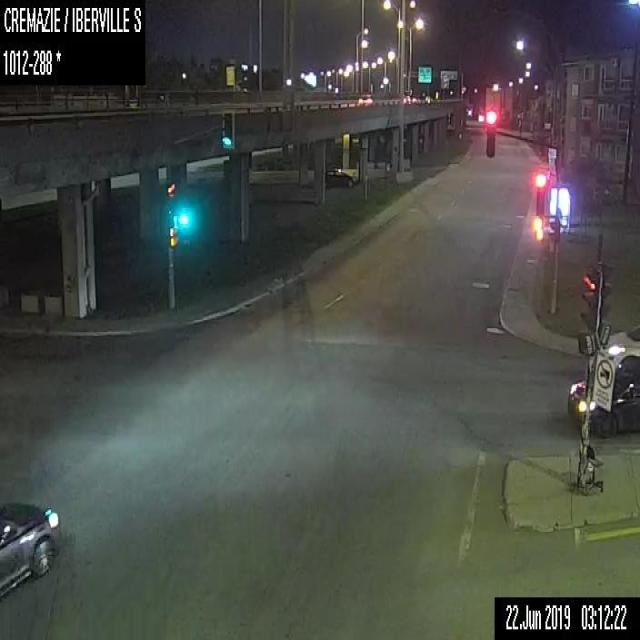vehicle: (567, 353, 639, 439), (0, 500, 60, 601), (599, 320, 639, 366), (325, 168, 354, 186), (358, 93, 374, 107), (424, 95, 433, 106), (403, 94, 412, 105), (412, 96, 421, 105)
